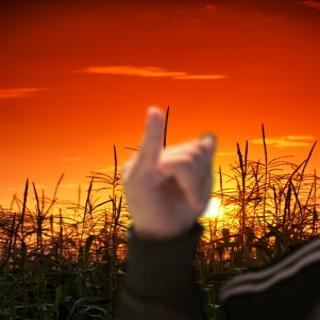HAVE: (113, 101, 224, 236)
